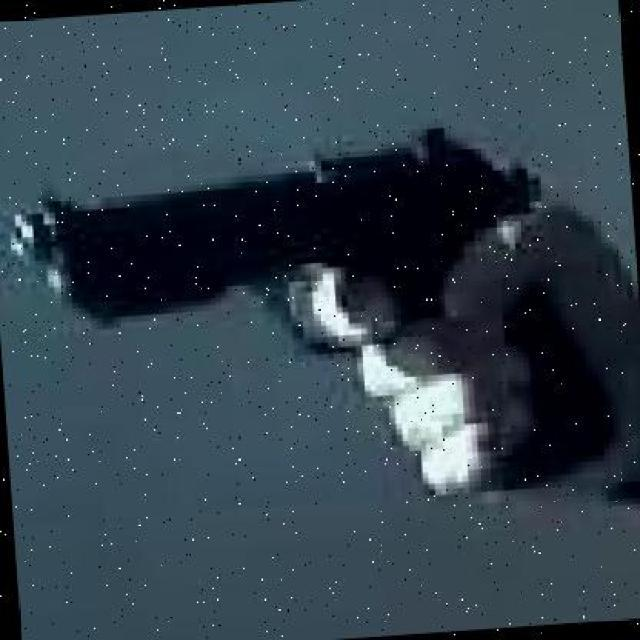rifle: (9, 122, 631, 471)
